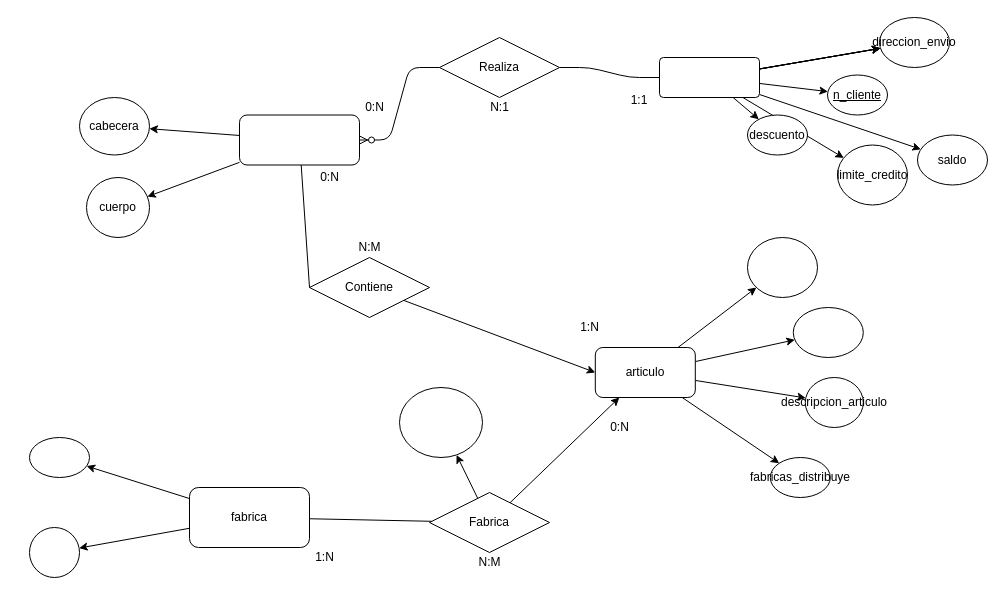
Some shapes in this 1005 by 595 pixel diagram are drawn without their labels. Each missing label, with the box of its shape:
Cliente: (658, 56, 760, 98)
num_articulo_por_fabrica: (792, 306, 863, 358)
num_fabrica: (28, 436, 90, 478)
numero_articulo: (746, 236, 818, 298)
pedido: (238, 114, 360, 165)
telef_contacto: (28, 526, 80, 578)
total_articulos: (398, 386, 482, 458)
